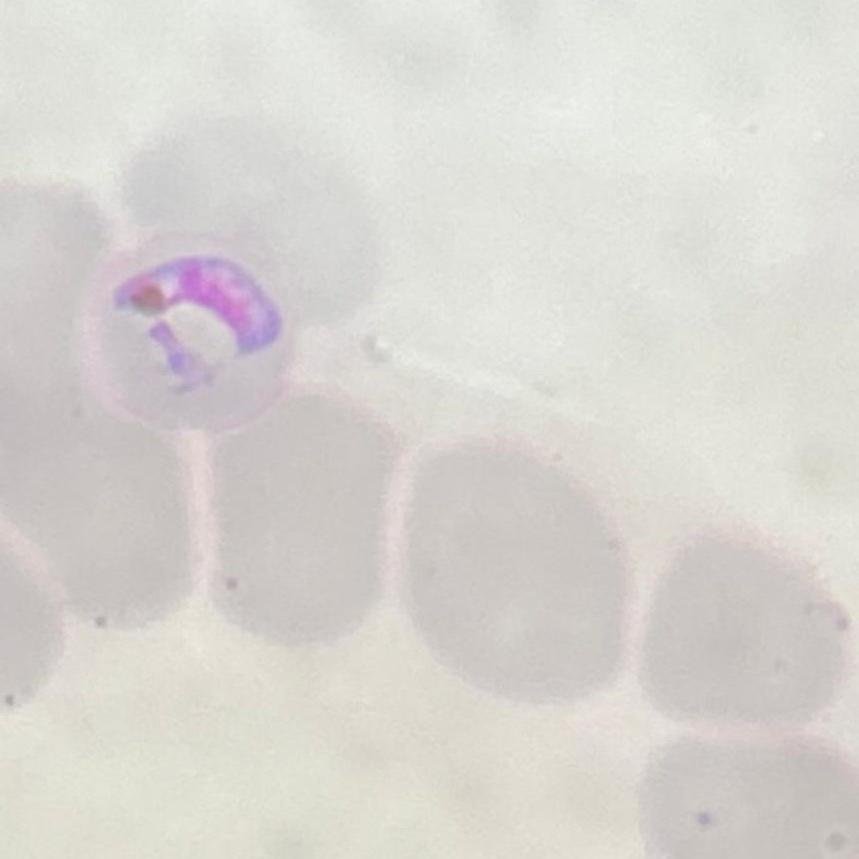Infected: (76, 231, 305, 440)
Uninfected: (406, 447, 631, 703), (198, 385, 397, 650), (643, 537, 859, 730), (42, 419, 205, 630)
